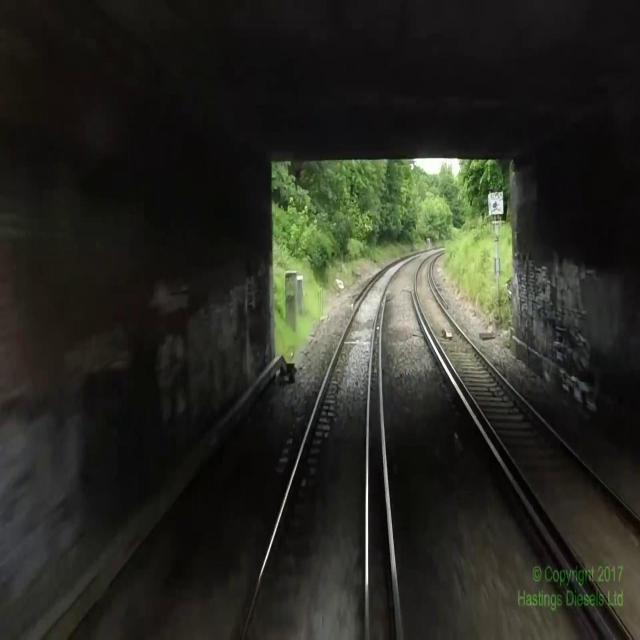rail-track: (416, 254, 640, 639), (245, 251, 430, 639)
